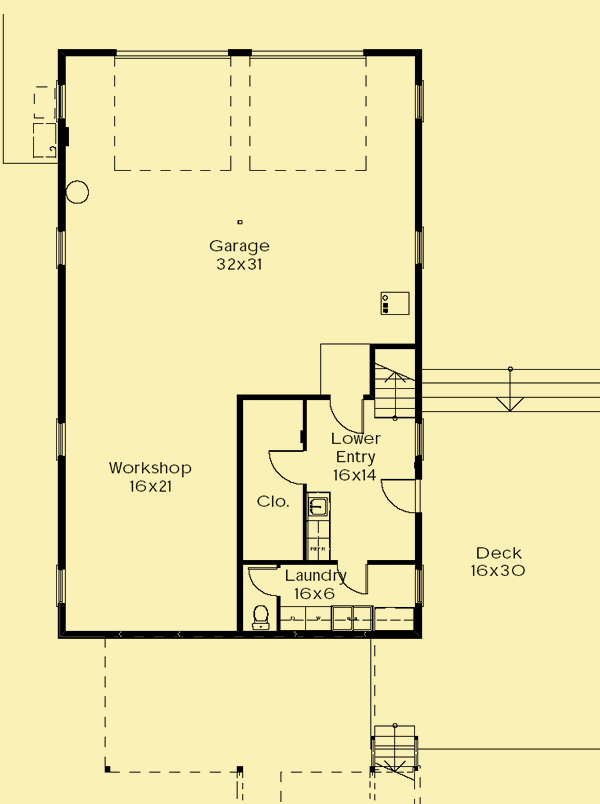door: (267, 445, 307, 486), (379, 472, 419, 513), (244, 558, 284, 599), (326, 396, 366, 436), (332, 558, 372, 598)
large_sink: (248, 599, 275, 632)
small_sink: (305, 493, 330, 520)
stairs: (422, 363, 600, 418), (371, 342, 417, 419), (372, 719, 422, 784)
window: (54, 228, 71, 276), (53, 419, 68, 466), (411, 563, 428, 604), (54, 83, 70, 123), (412, 420, 427, 460), (55, 570, 69, 606), (413, 76, 423, 121), (415, 228, 425, 272)
